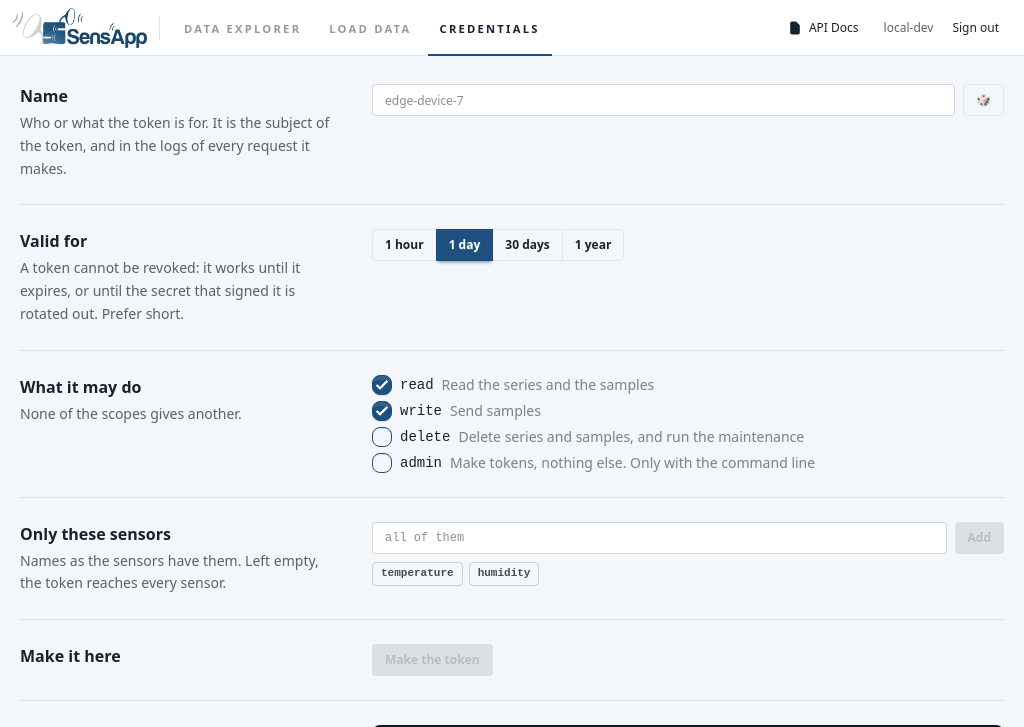
Test: CredentialsPage › offers the sensors of the server to a token that can read, to click in
Click the button "temperature".
click(417, 574)  # box [372,562,463,586]
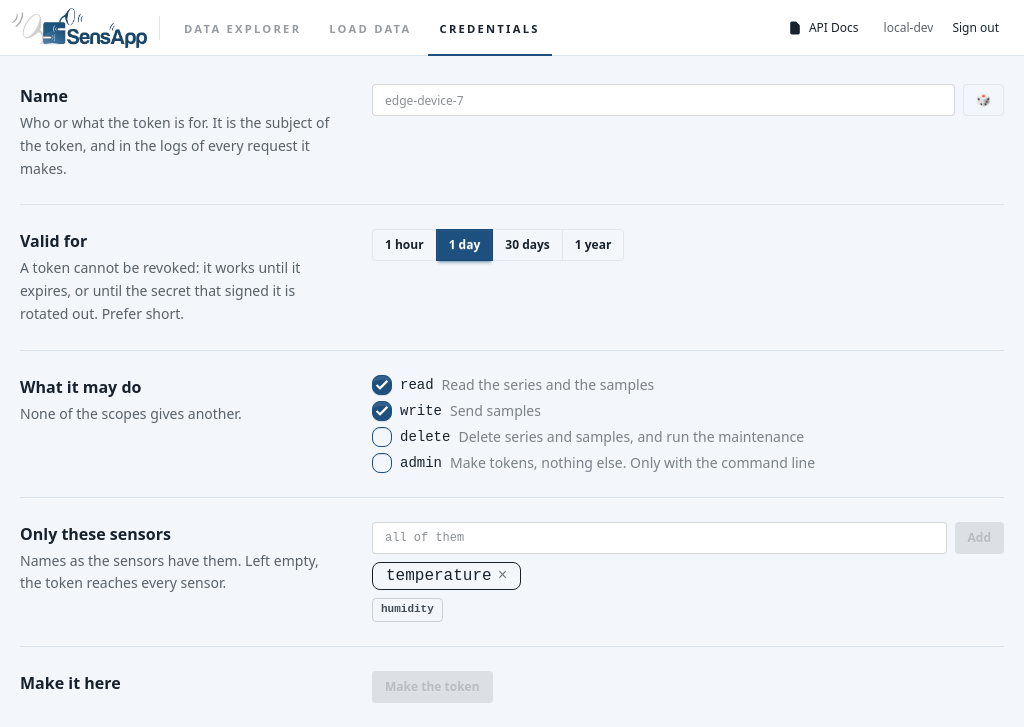
Click the button "humidity".
click(407, 610)  # box [372,598,443,622]
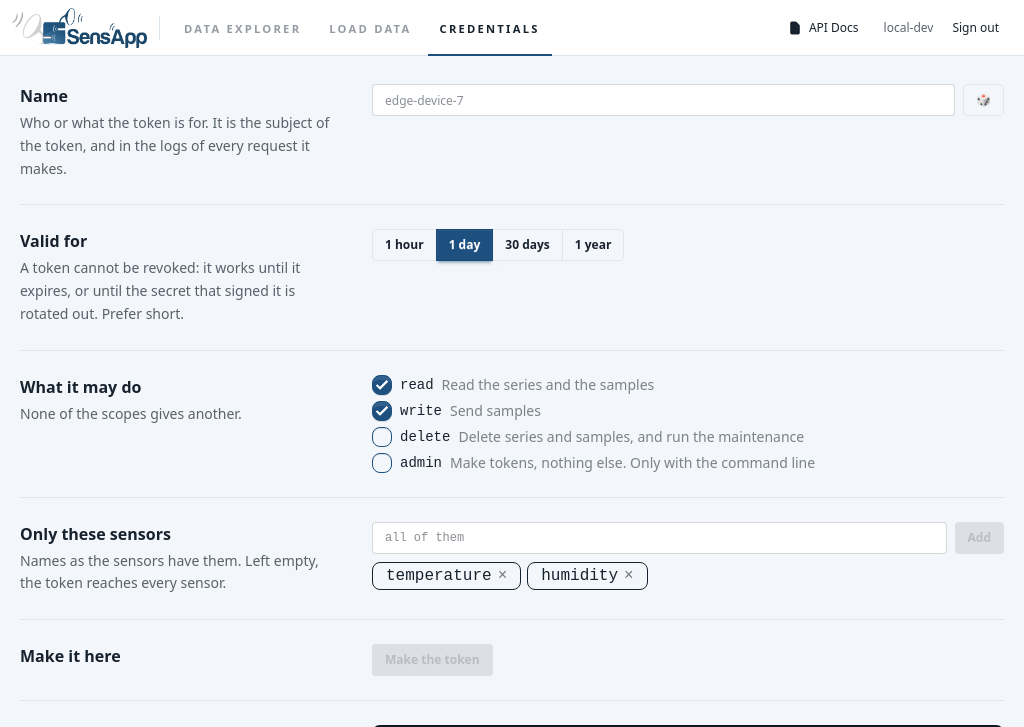
expect the number of list items is 2: met, box [372,562,521,590]; [527,562,648,590]
